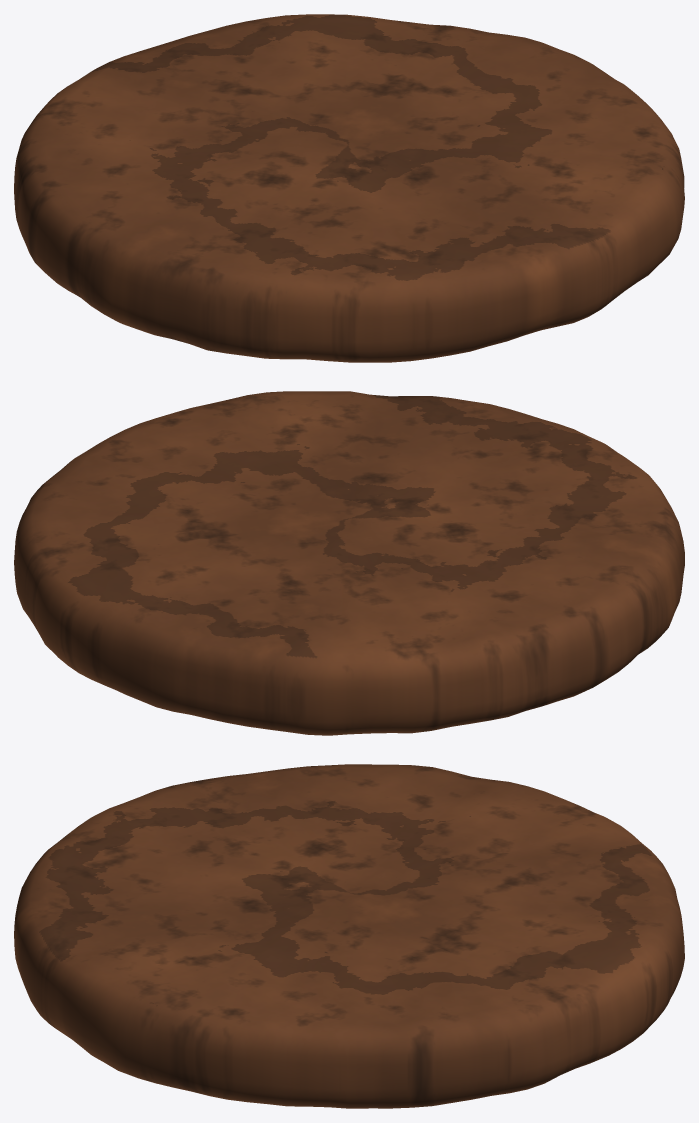
Rendered from patty.glb.
3 views of the same model, one above another, from view 1: azimuth 30°, elevation 25°; view 2: azimuth 150°, elevation 25°; view 3: azimuth 270°, elevation 25° (orthographic).
Parts seen in each view (by area): view 1: patty; view 2: patty; view 3: patty.
Boxes of the visible parts, <box> form: patty: <box>14,14,684,362</box>; patty: <box>14,391,684,735</box>; patty: <box>14,764,684,1108</box>.
Bounding box in the file's own units: 1.05 × 0.1559 × 1.06.
Materials: 1 (1 with a texture image).
